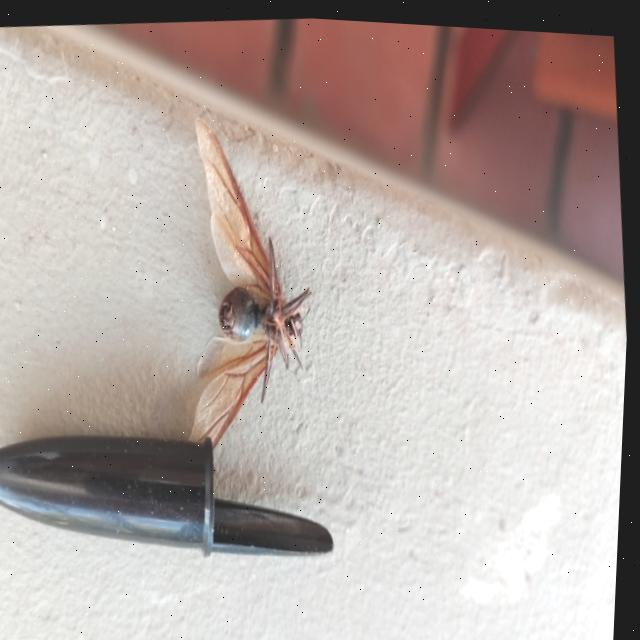Dead-Male-Alate: (156, 102, 337, 475)
